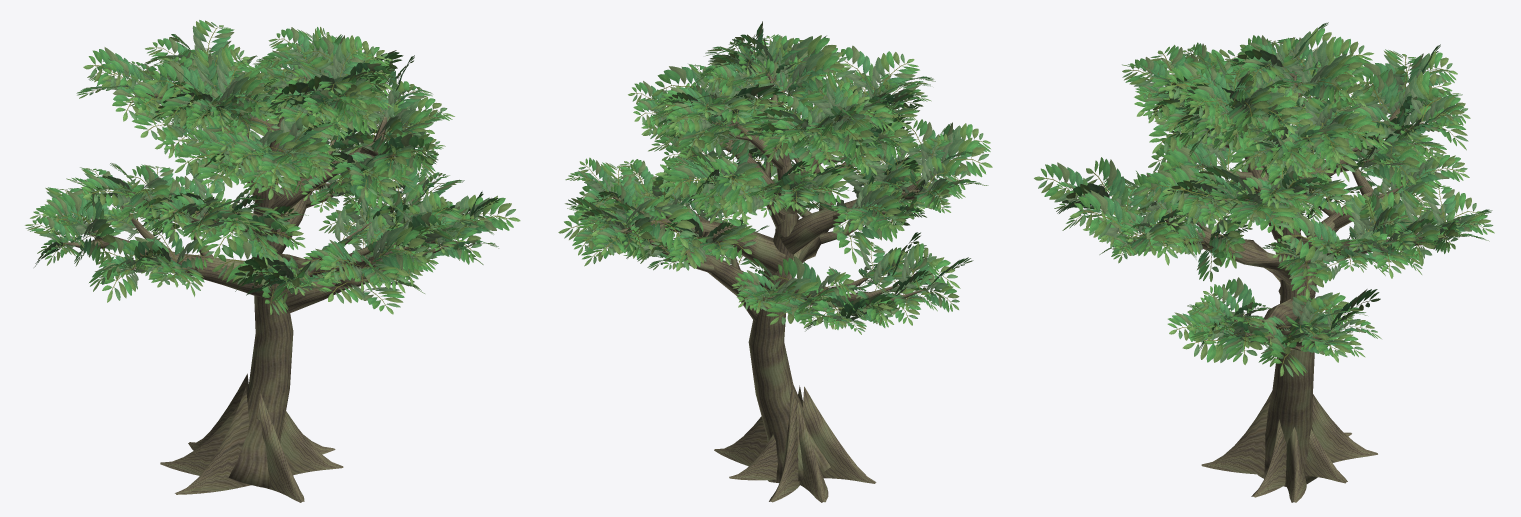
The model's file is rainwood.glb.
3 views of the same model, side by side, from view 1: azimuth 30°, elevation 25°; view 2: azimuth 150°, elevation 25°; view 3: azimuth 270°, elevation 25° (orthographic). The views are drawn at different scales.
Parts seen in each view (by area): view 1: leaflets, rainwood bark; view 2: leaflets, rainwood bark; view 3: leaflets, rainwood bark.
Boxes of the visible parts, <box> form: leaflets: <box>25,20,520,315</box>; rainwood bark: <box>63,76,452,502</box>; leaflets: <box>558,21,992,334</box>; rainwood bark: <box>610,71,946,502</box>; leaflets: <box>1034,22,1494,376</box>; rainwood bark: <box>1133,66,1446,502</box>.
Size of the model in its own units: 10.57 by 10.08 by 9.91.
2 materials, 2 textured.
